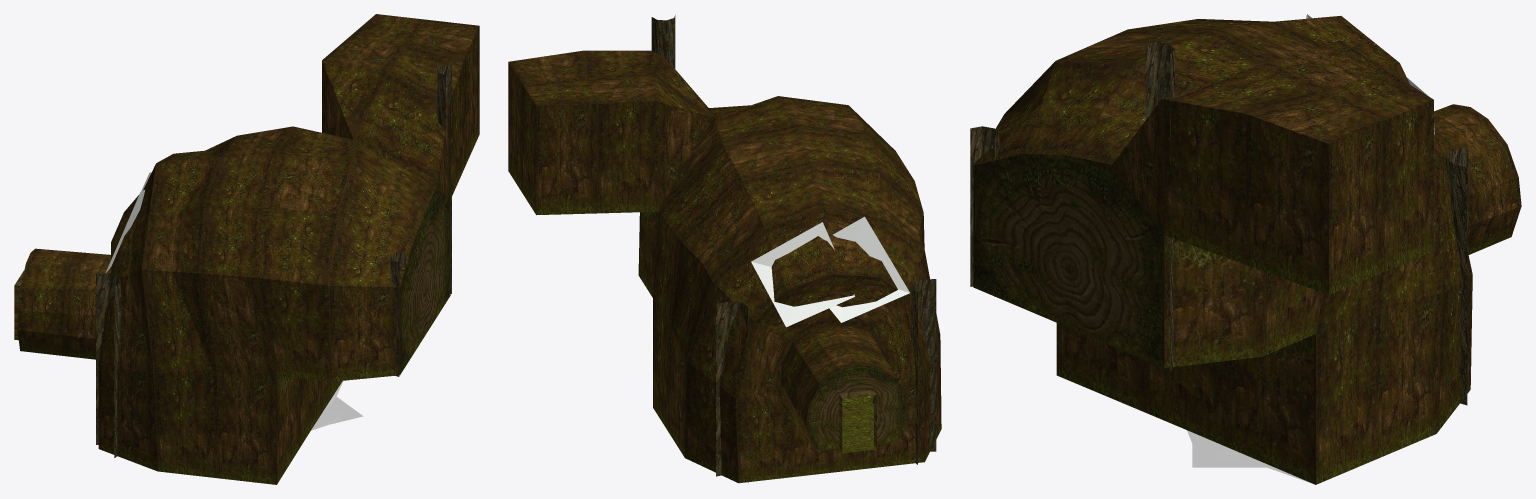
The picture shows the model from 3 angles, left to right: view 1: azimuth 30°, elevation 25°; view 2: azimuth 150°, elevation 25°; view 3: azimuth 270°, elevation 25°; orthographic projection. The views are drawn at different scales.
Parts seen in each view (by area): view 1: inside_the_deku_tree_02.dmx, inside_the_deku_tree_02.dmx.003, inside_the_deku_tree_02.dmx.005, GAP_FILL_FLOOR; view 2: inside_the_deku_tree_02.dmx, inside_the_deku_tree_02.dmx.005, inside_the_deku_tree_02.dmx.003, inside_the_deku_tree_02.dmx.001, inside_the_deku_tree_02.dmx.006; view 3: inside_the_deku_tree_02.dmx, inside_the_deku_tree_02.dmx.003, inside_the_deku_tree_02.dmx.005, GAP_FILL_FLOOR.
Boxes of the visible parts, <box> form: inside_the_deku_tree_02.dmx: <box>17,14,479,484</box>; inside_the_deku_tree_02.dmx.003: <box>14,187,450,374</box>; inside_the_deku_tree_02.dmx.005: <box>96,65,451,457</box>; GAP_FILL_FLOOR: <box>311,380,363,430</box>; inside_the_deku_tree_02.dmx: <box>508,50,941,483</box>; inside_the_deku_tree_02.dmx.005: <box>651,15,936,482</box>; inside_the_deku_tree_02.dmx.003: <box>806,365,907,452</box>; inside_the_deku_tree_02.dmx.001: <box>751,216,909,327</box>; inside_the_deku_tree_02.dmx.006: <box>842,395,876,453</box>; inside_the_deku_tree_02.dmx: <box>973,16,1521,484</box>; inside_the_deku_tree_02.dmx.003: <box>973,153,1164,367</box>; inside_the_deku_tree_02.dmx.005: <box>970,42,1468,405</box>; GAP_FILL_FLOOR: <box>1187,430,1313,484</box>.
Size of the model in its own units: 18.31 by 13.76 by 14.69.
